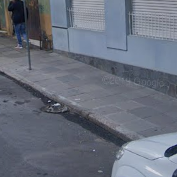vag36: (2, 53, 119, 143)
